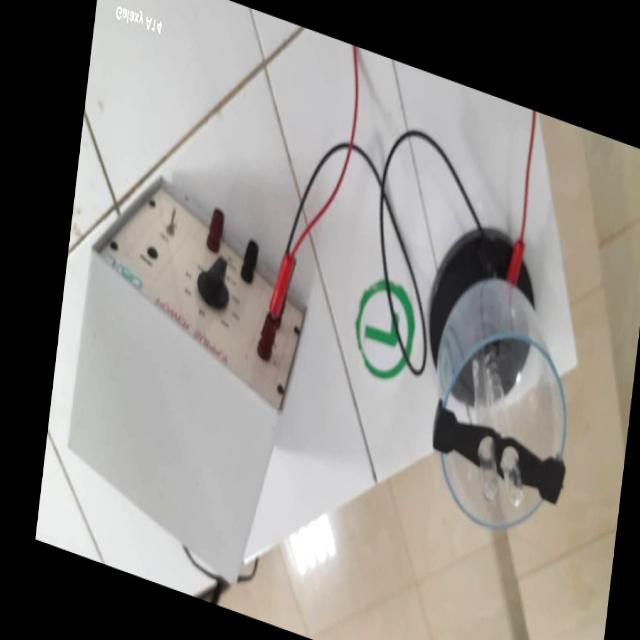Electrolyzer: (404, 203, 590, 556)
